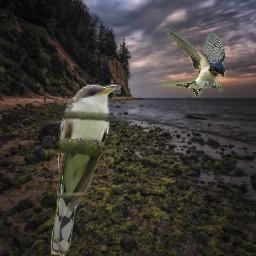Cuckoo: (51, 84, 121, 256)
Swallow: (159, 28, 225, 98)
